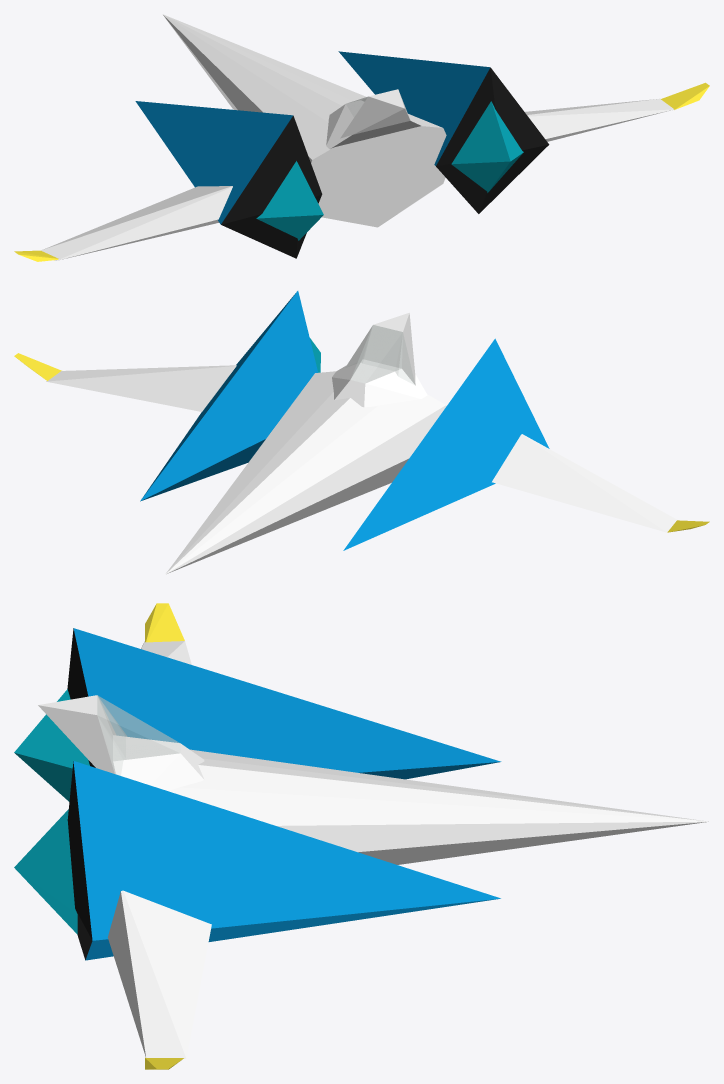
File: Arwing Star Fox.glb
3 renders of one model, top to bottom at view 1: azimuth 30°, elevation 25°; view 2: azimuth 150°, elevation 25°; view 3: azimuth 270°, elevation 25°, orthographic. The views are drawn at different scales.
Parts seen in each view (by area): view 1: group1463920572, group880859104, group1121847136, group806964330, group1780649951, group956010490, group1080070685, group464688159, group335070153, group1385402744, group487296091, group478504828; view 2: group1463920572, group880859104, group1121847136, group806964330, group464688159, group487296091, group1385402744, group1597662914, group1125755829, group478504828; view 3: group1121847136, group1463920572, group880859104, group464688159, group487296091, group1080070685, group1385402744, group335070153, group1125755829, group1780649951, group1597662914, group1131677522 (+2 smaller).
Boxes of the visible parts, bbox=[...] form: group1463920572: bbox=[162, 14, 446, 227]; group880859104: bbox=[135, 101, 292, 224]; group1121847136: bbox=[338, 51, 490, 165]; group806964330: bbox=[41, 186, 232, 260]; group1780649951: bbox=[436, 67, 549, 213]; group956010490: bbox=[221, 115, 322, 258]; group1080070685: bbox=[451, 101, 523, 192]; group464688159: bbox=[525, 98, 674, 141]; group335070153: bbox=[256, 161, 323, 240]; group1385402744: bbox=[340, 89, 410, 138]; group487296091: bbox=[326, 100, 420, 149]; group478504828: bbox=[661, 82, 709, 109]; group1463920572: bbox=[165, 371, 446, 574]; group880859104: bbox=[343, 338, 549, 550]; group1121847136: bbox=[140, 291, 318, 501]; group806964330: bbox=[492, 434, 677, 532]; group464688159: bbox=[46, 365, 236, 411]; group487296091: bbox=[332, 359, 427, 407]; group1385402744: bbox=[345, 312, 415, 385]; group1597662914: bbox=[345, 325, 415, 385]; group1125755829: bbox=[350, 325, 402, 383]; group478504828: bbox=[14, 353, 61, 380]; group1121847136: bbox=[73, 761, 500, 960]; group1463920572: bbox=[168, 749, 708, 864]; group880859104: bbox=[73, 628, 501, 779]; group464688159: bbox=[107, 890, 211, 1058]; group487296091: bbox=[113, 735, 204, 790]; group1080070685: bbox=[14, 809, 77, 934]; group1385402744: bbox=[38, 695, 115, 774]; group335070153: bbox=[14, 689, 89, 801]; group1125755829: bbox=[97, 695, 180, 760]; group1780649951: bbox=[67, 761, 92, 959]; group1597662914: bbox=[97, 696, 126, 775]; group1131677522: bbox=[145, 603, 184, 642].
Size of the model in its own units: 0.9262 by 0.19 by 0.585.
